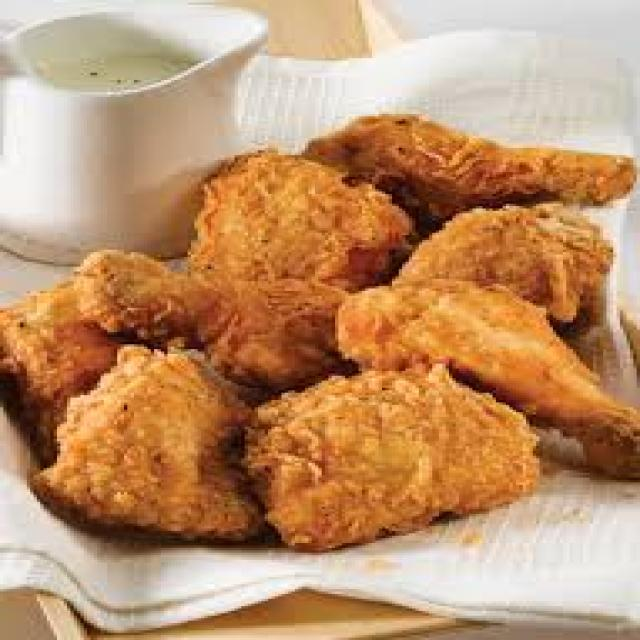Frango: (345, 274, 640, 494), (232, 370, 536, 551), (32, 346, 270, 550)
